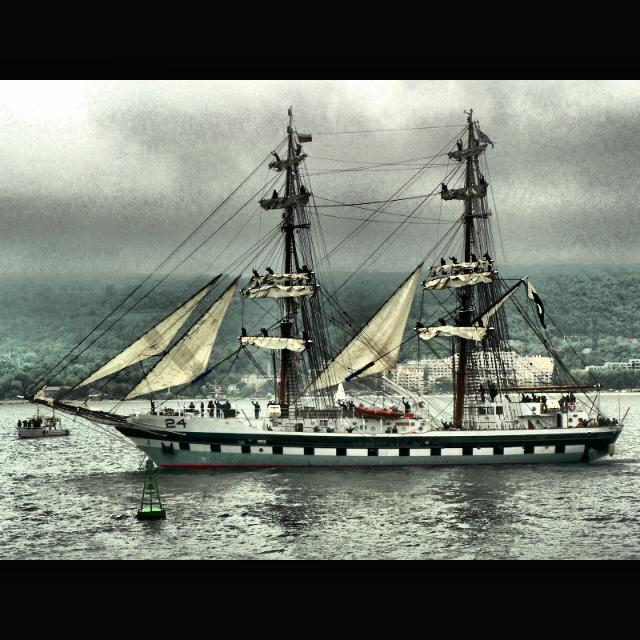buoy: (135, 439, 167, 521)
sailing_vessel: (18, 104, 624, 470)
